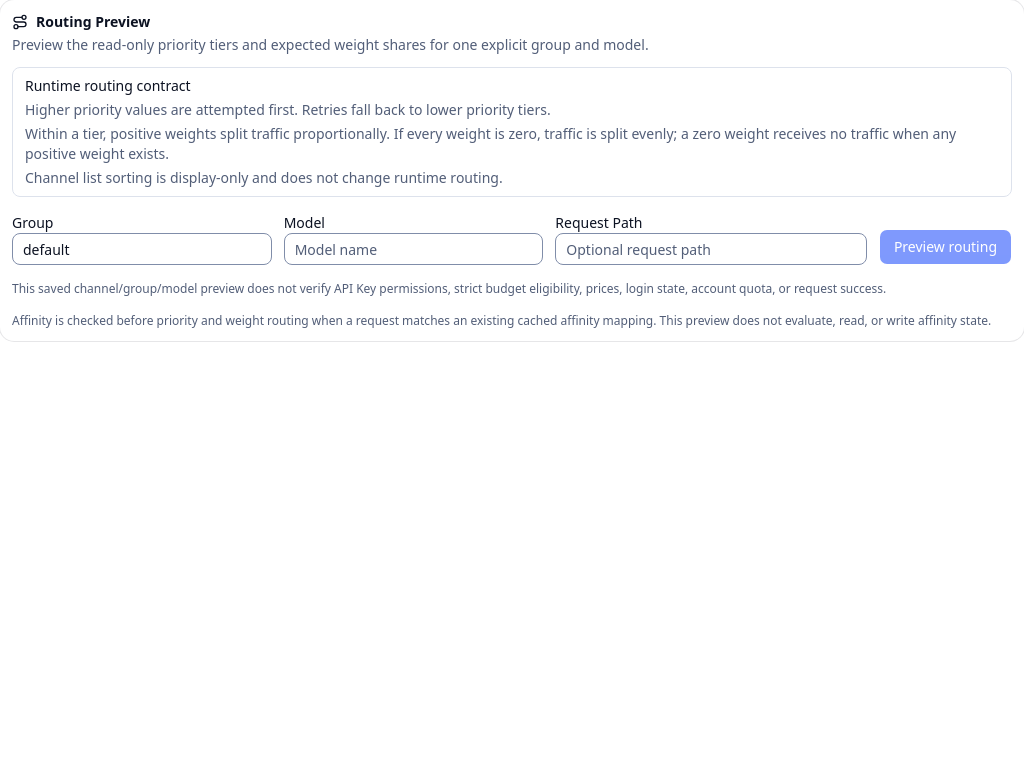
it: account scheduling preview › en renders translated scheduling, exclusions, expiry, and affinity without fallback or lost placeholders
The image size is (1024, 757).
Step 1. Type "public-model" into the field named "Routing preview model" → (413,249), box [284, 233, 543, 265]
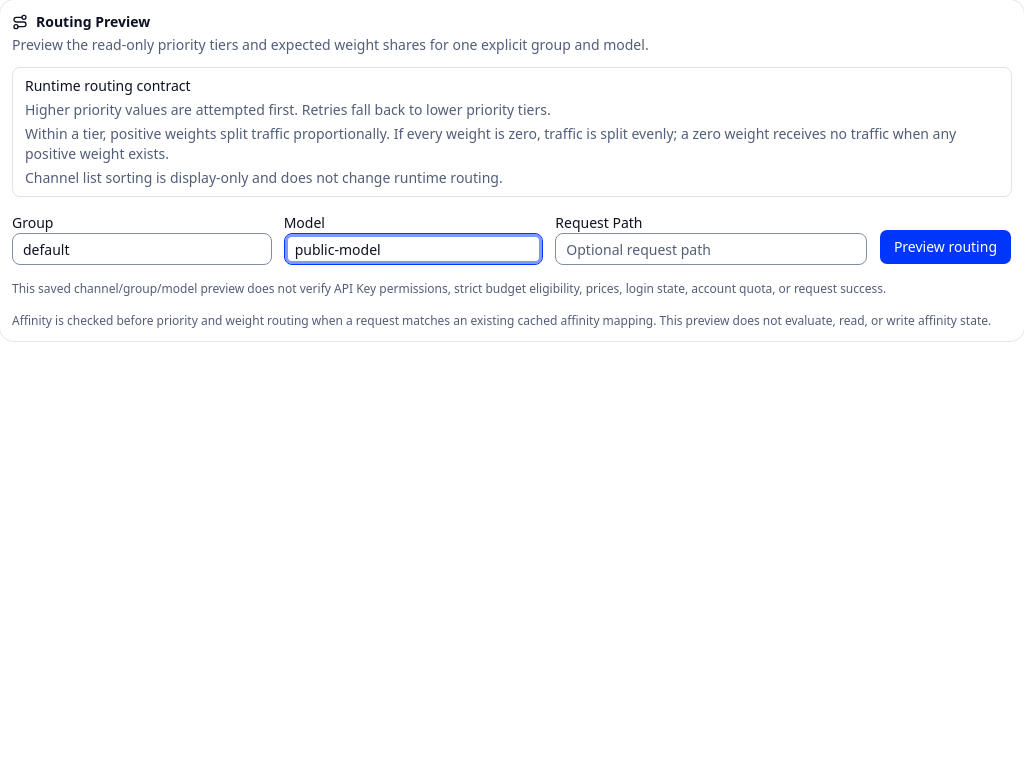
Step 2. Click the button "Preview routing" → (945,247), box [879, 229, 1012, 265]
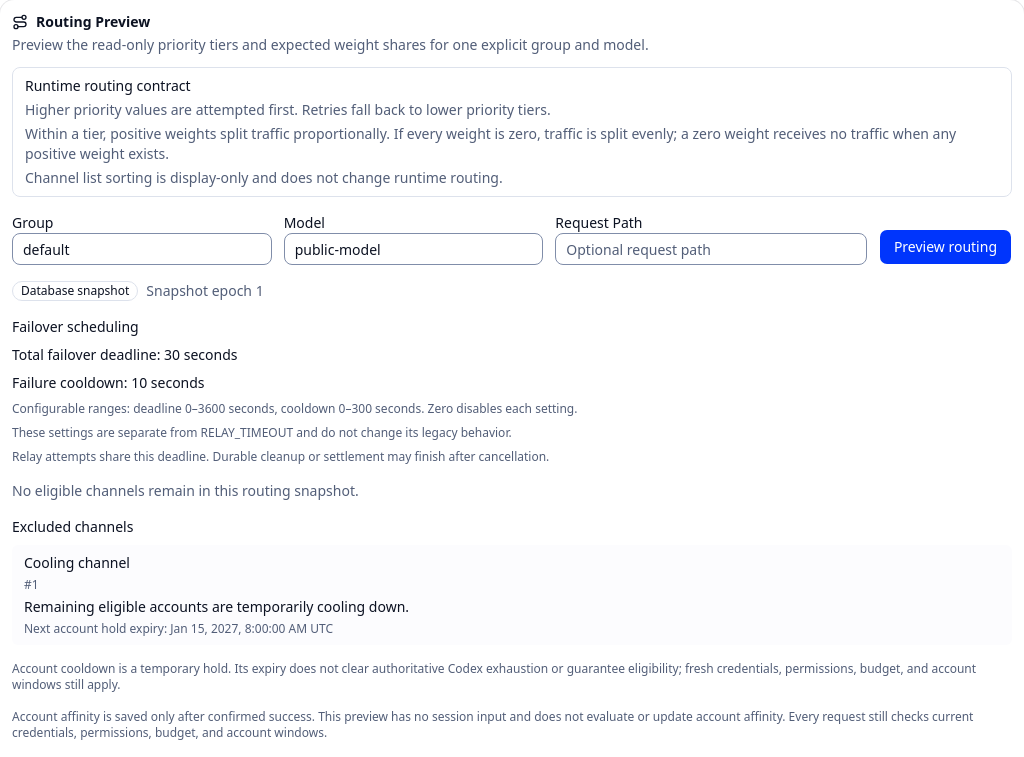
Expected: the text "Total failover deadline: 30 seconds" is shown, [12, 345, 238, 364]
Expected: the text "Remaining eligible accounts are temporarily cooling down." is shown, [24, 597, 409, 616]
Expected: the text "Account affinity is saved only after confirmed success. This preview has no session input and does not evaluate or updat" is shown, [12, 708, 973, 741]
